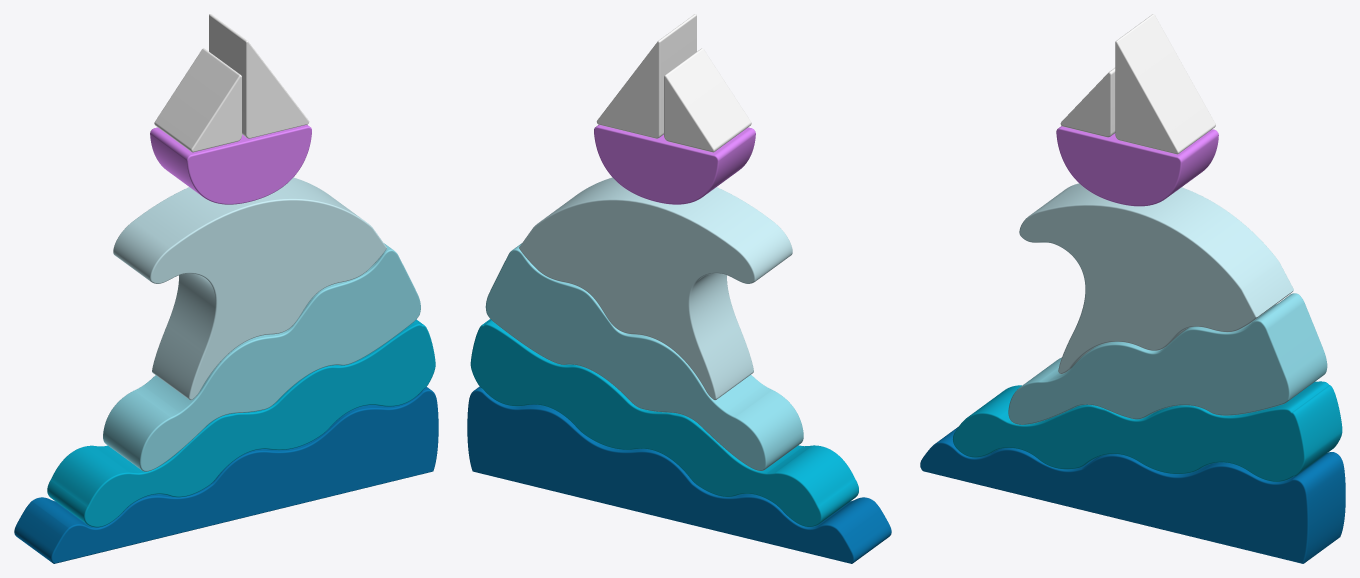
The model's file is wave.gltf.
3 renders of one model, left to right at view 1: azimuth 30°, elevation 25°; view 2: azimuth 150°, elevation 25°; view 3: azimuth 330°, elevation 25°, orthographic.
Visible parts, largest first — view 1: Shape 4, Shape, Shape 3, Shape 2, Shape 5, Shape 7, Shape 6; view 2: Shape 4, Shape, Shape 3, Shape 2, Shape 5, Shape 7, Shape 6; view 3: Shape 4, Shape, Shape 3, Shape 2, Shape 6, Shape 5, Shape 7.
Boxes of the visible parts, bbox=[...] form: Shape 4: bbox=[113, 177, 386, 400]; Shape: bbox=[14, 387, 438, 563]; Shape 3: bbox=[103, 243, 420, 471]; Shape 2: bbox=[47, 319, 435, 527]; Shape 5: bbox=[150, 125, 311, 204]; Shape 7: bbox=[154, 48, 241, 152]; Shape 6: bbox=[209, 14, 309, 138]; Shape 4: bbox=[519, 177, 792, 400]; Shape: bbox=[467, 386, 891, 563]; Shape 3: bbox=[485, 243, 803, 470]; Shape 2: bbox=[470, 319, 858, 526]; Shape 5: bbox=[594, 125, 755, 204]; Shape 7: bbox=[664, 48, 751, 152]; Shape 6: bbox=[596, 14, 696, 138]; Shape 4: bbox=[1019, 183, 1293, 373]; Shape: bbox=[920, 426, 1345, 563]; Shape 3: bbox=[1008, 293, 1327, 424]; Shape 2: bbox=[952, 381, 1342, 481]; Shape 6: bbox=[1115, 14, 1215, 154]; Shape 5: bbox=[1056, 126, 1218, 206]; Shape 7: bbox=[1060, 68, 1115, 137].
Size of the model in its own units: 11.82 by 13.87 by 2.02.
